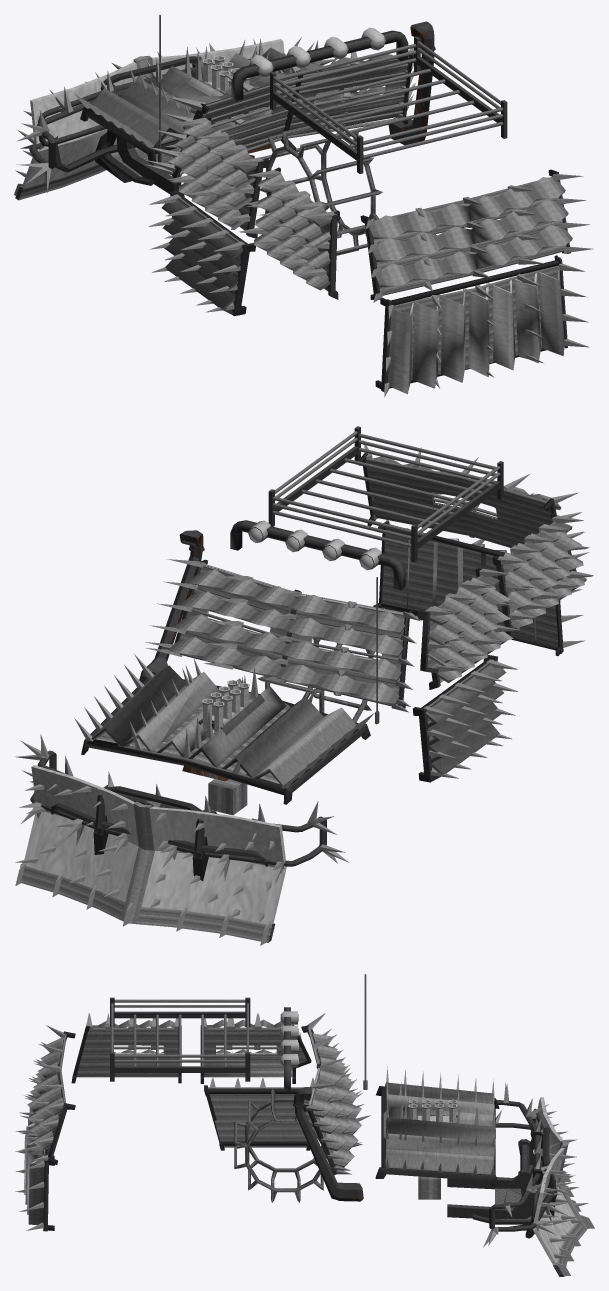
Rendered from OffRoadArmor.fbx.
3 views of the same model, one above another, from view 1: azimuth 30°, elevation 25°; view 2: azimuth 150°, elevation 25°; view 3: azimuth 270°, elevation 25° (orthographic). The views are drawn at different scales.
Parts seen in each view (by area): view 1: trunkreinforcedrear, windowreinforcedrear, roofrack, plow, windowheavyfront, windowfrontreinforcedleft, doorfrontreinforcedleft, windowrearreinforcedleft, hoodreinforcedfront, windowlightfront, windowheavyrear, chaintires (+28 smaller); view 2: plow, windowreinforcedfront, plow_spiked, hoodreinforcedfront, roofrack, hoodreinforcedfrontscoop, windowheavyrear, windowheavyspikedfront, trunkheavyspikedrear, windowfrontreinforcedleft, doorfrontreinforcedleft, windowrearreinforcedleft (+25 smaller); view 3: hoodreinforcedfront, roofrack, doorfrontheavyleft, hoodreinforcedfrontscoop, windowrearheavyleft, windowreinforcedfront, plow, windowfrontheavyleft, chaintires, pushbar_small, windowreinforcedrear, pushbar_large_spiked (+21 smaller).
Boxes of the visible parts, <box> form: trunkreinforcedrear: <box>387,260,564,394</box>; windowreinforcedrear: <box>369,177,572,287</box>; roofrack: <box>270,36,507,173</box>; plow: <box>14,39,284,200</box>; windowheavyfront: <box>173,54,413,178</box>; windowfrontreinforcedleft: <box>169,120,256,229</box>; doorfrontreinforcedleft: <box>161,194,247,314</box>; windowrearreinforcedleft: <box>253,173,330,290</box>; hoodreinforcedfront: <box>90,47,357,154</box>; windowlightfront: <box>182,57,409,173</box>; windowheavyrear: <box>360,169,570,299</box>; chaintires: <box>260,117,382,255</box>; plow: <box>15,765,286,945</box>; windowreinforcedfront: <box>169,569,404,705</box>; plow_spiked: <box>15,767,283,923</box>; hoodreinforcedfront: <box>86,665,363,795</box>; roofrack: <box>268,426,503,562</box>; hoodreinforcedfrontscoop: <box>91,666,344,786</box>; windowheavyrear: <box>358,453,556,547</box>; windowheavyspikedfront: <box>145,559,420,706</box>; trunkheavyspikedrear: <box>382,520,585,647</box>; windowfrontreinforcedleft: <box>427,576,513,682</box>; doorfrontreinforcedleft: <box>421,659,506,780</box>; windowrearreinforcedleft: <box>502,523,586,629</box>; hoodreinforcedfront: <box>381,1082,495,1174</box>; roofrack: <box>110,997,250,1081</box>; doorfrontheavyleft: <box>204,1085,313,1150</box>; hoodreinforcedfrontscoop: <box>386,1083,495,1174</box>; windowrearheavyleft: <box>71,1025,181,1083</box>; windowreinforcedfront: <box>312,1033,361,1167</box>; plow: <box>530,1097,594,1276</box>; windowfrontheavyleft: <box>200,1025,311,1083</box>; chaintires: <box>234,1088,329,1202</box>; pushbar_small: <box>447,1139,534,1218</box>; windowreinforcedrear: <box>27,1037,63,1149</box>; pushbar_large_spiked: <box>483,1082,575,1247</box>.
Size of the model in its own units: 264 by 208 by 514.
